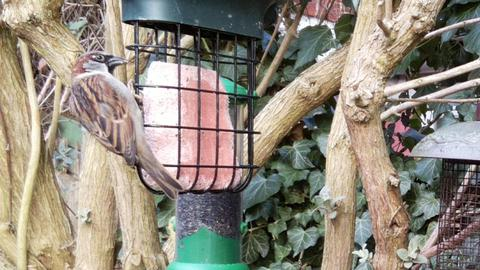sparrow: (68, 50, 185, 200)
